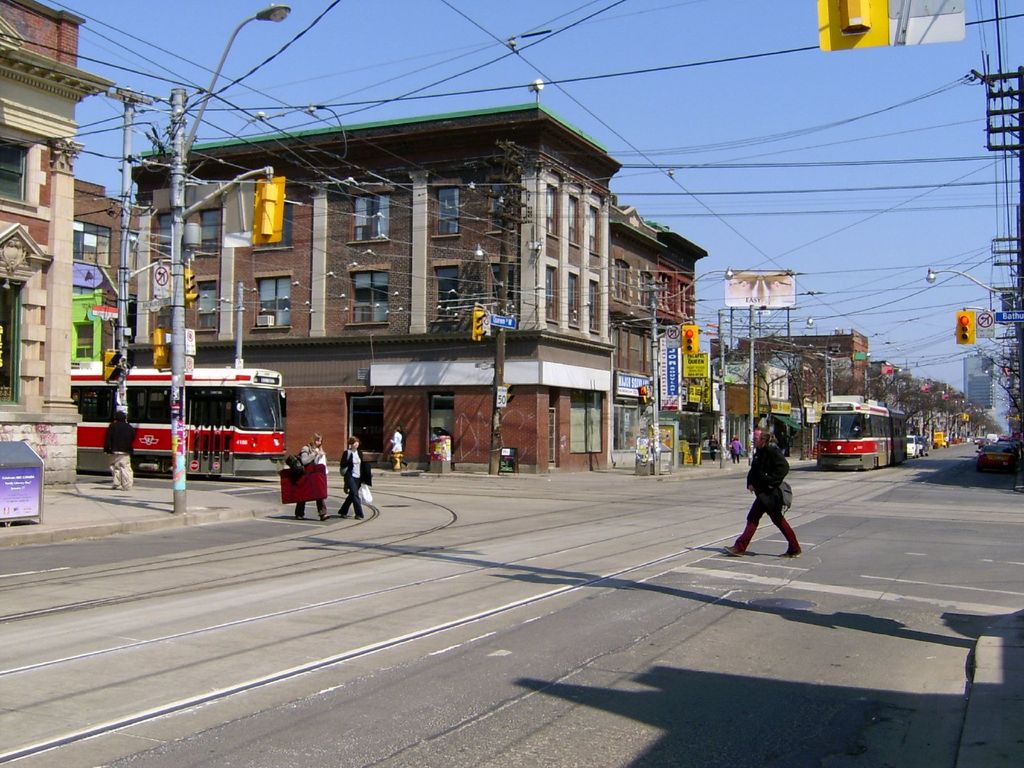no_left_turn: (153, 265, 170, 288)
red_light: (957, 314, 972, 326), (684, 327, 698, 339)
